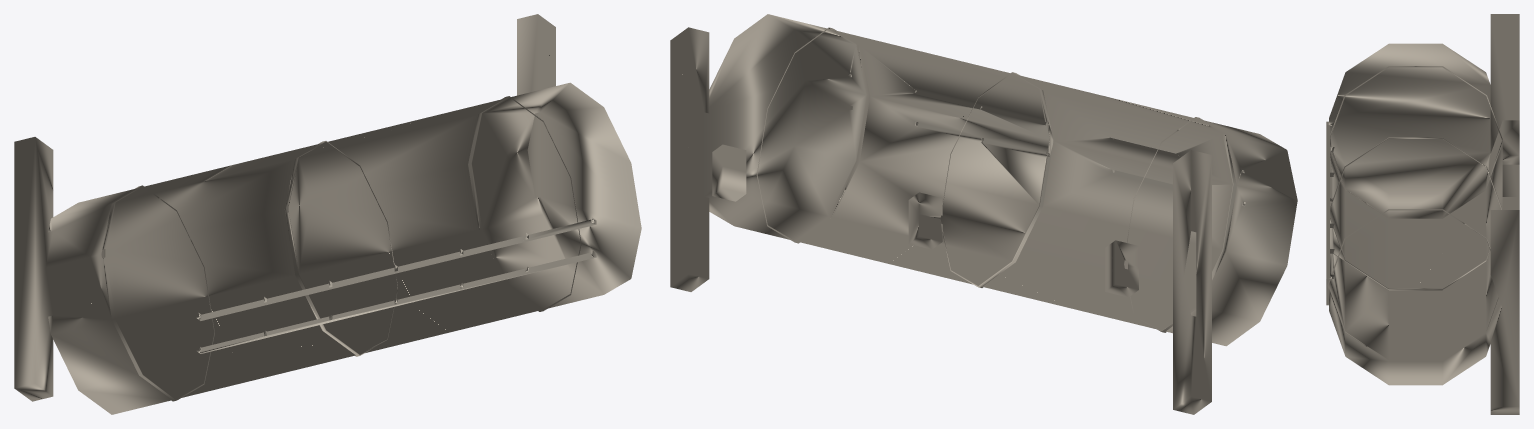
The model's file is tankH.glb.
3 renders of one model, left to right at view 1: azimuth 30°, elevation 25°; view 2: azimuth 150°, elevation 25°; view 3: azimuth 270°, elevation 25°, orthographic. The views are drawn at different scales.
Visible parts, largest first — view 1: tankH; view 2: tankH; view 3: tankH.
Part boxes in pixels (<box>): tankH: <box>14,14,641,414</box>; tankH: <box>670,14,1297,414</box>; tankH: <box>1326,14,1519,414</box>.
Bounding box in the file's own units: 20 × 9 × 8.
